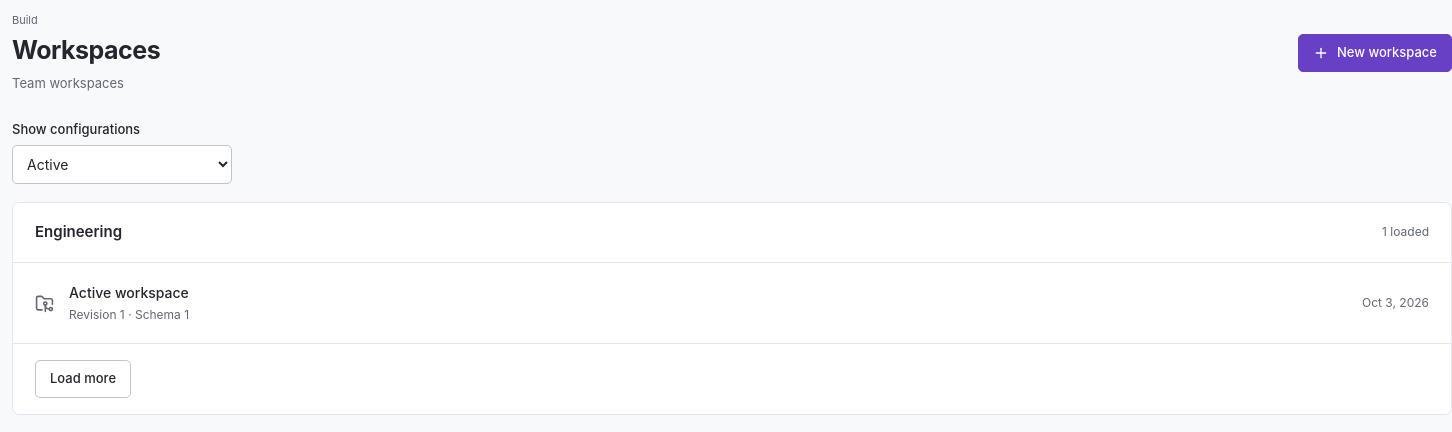
Test: catalog status filtering › resets items and pagination when the team changes
Click the button "Load more". click: (83, 378)
box: [35,360,131,398]
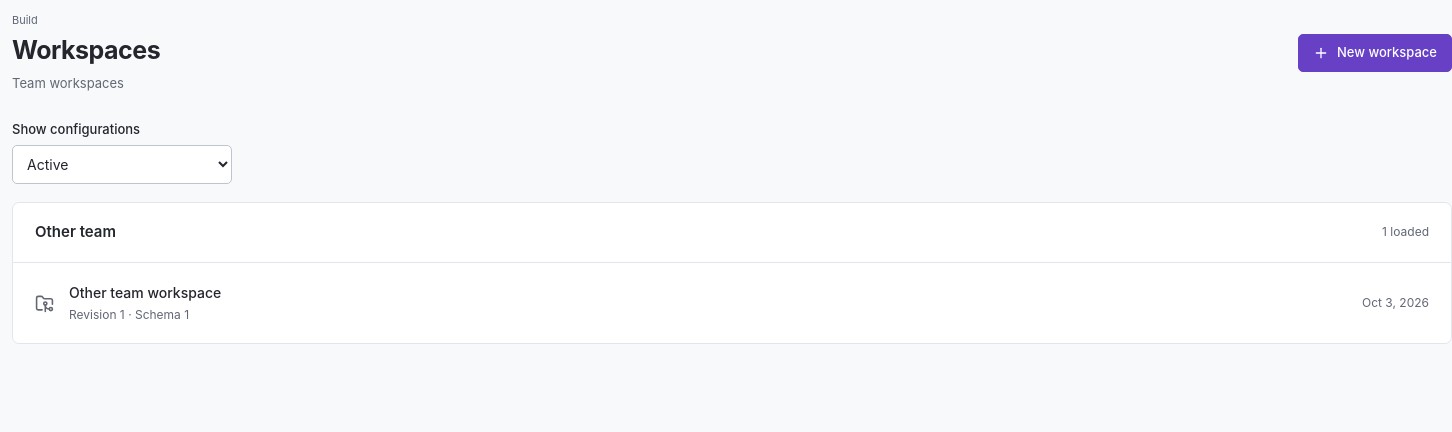
Now the text "Active workspace" is gone
Now the text "Other team workspace" is shown, box [69,284,221,300]
